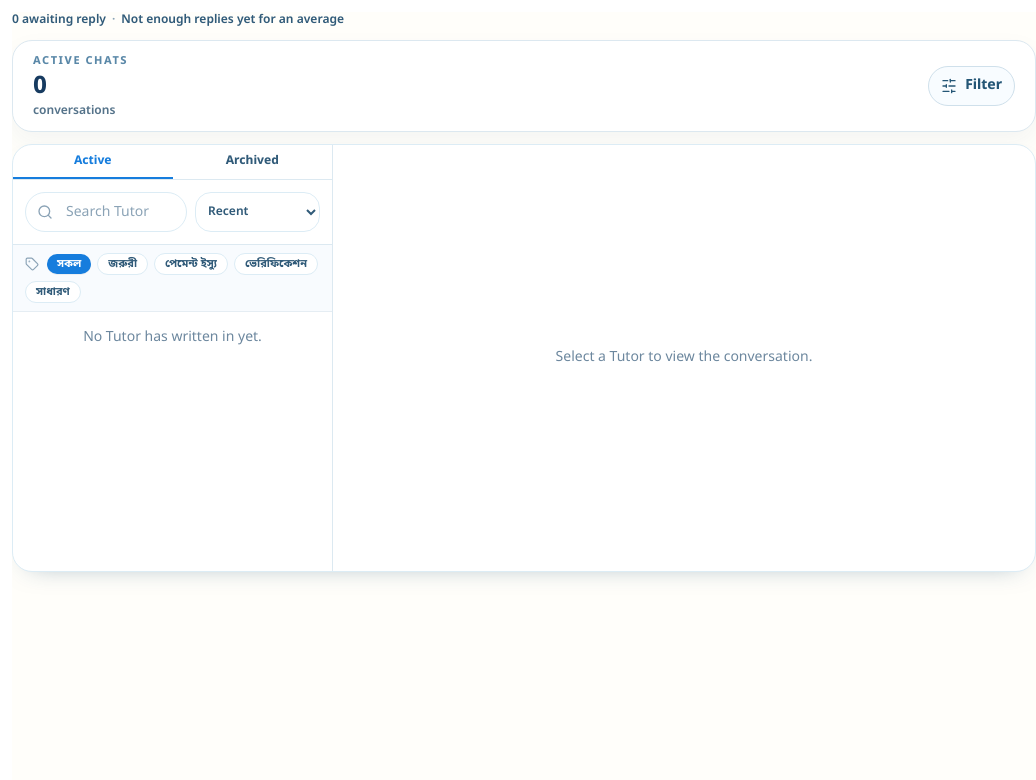
Test case: the card and filter panel over the conversations › says nothing matches, rather than that nobody has written in, when a filter empties the list
The image size is (1036, 780).
Check: the text "No Tutor has written in yet." is shown, box [83,328,262,347]
Click the button "Filter" at coordinates (972, 86), box [928,66,1015,106]
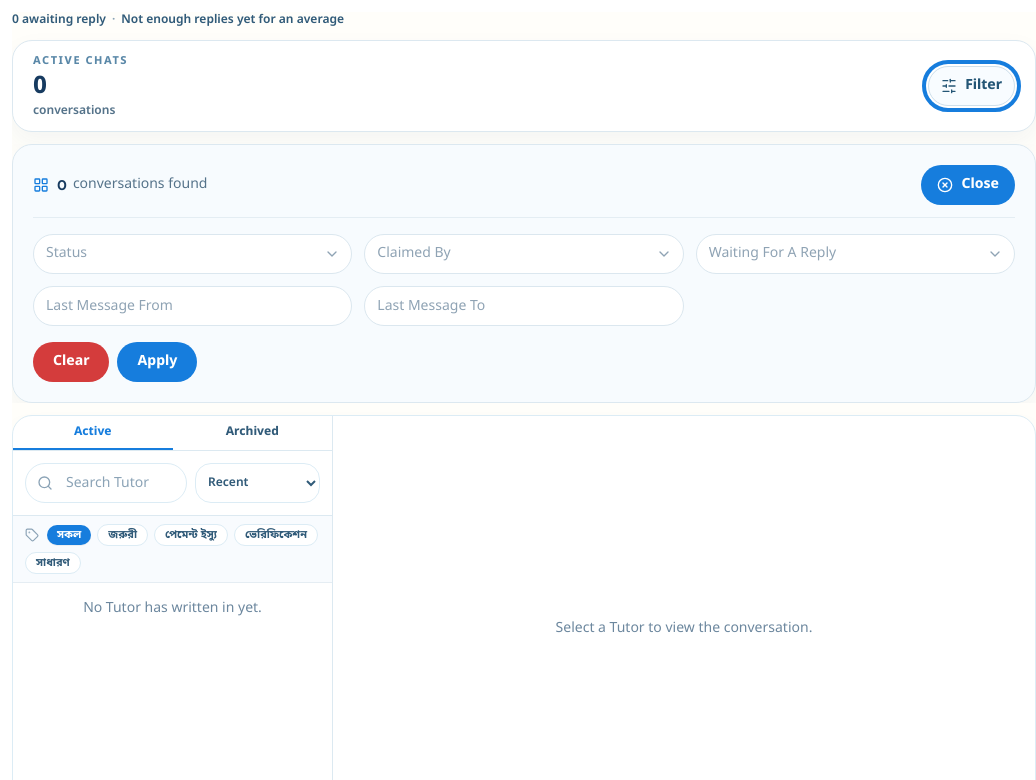
Select "Unread" in the dropdown named "Status" at coordinates (193, 254), box [33,234,352,274]
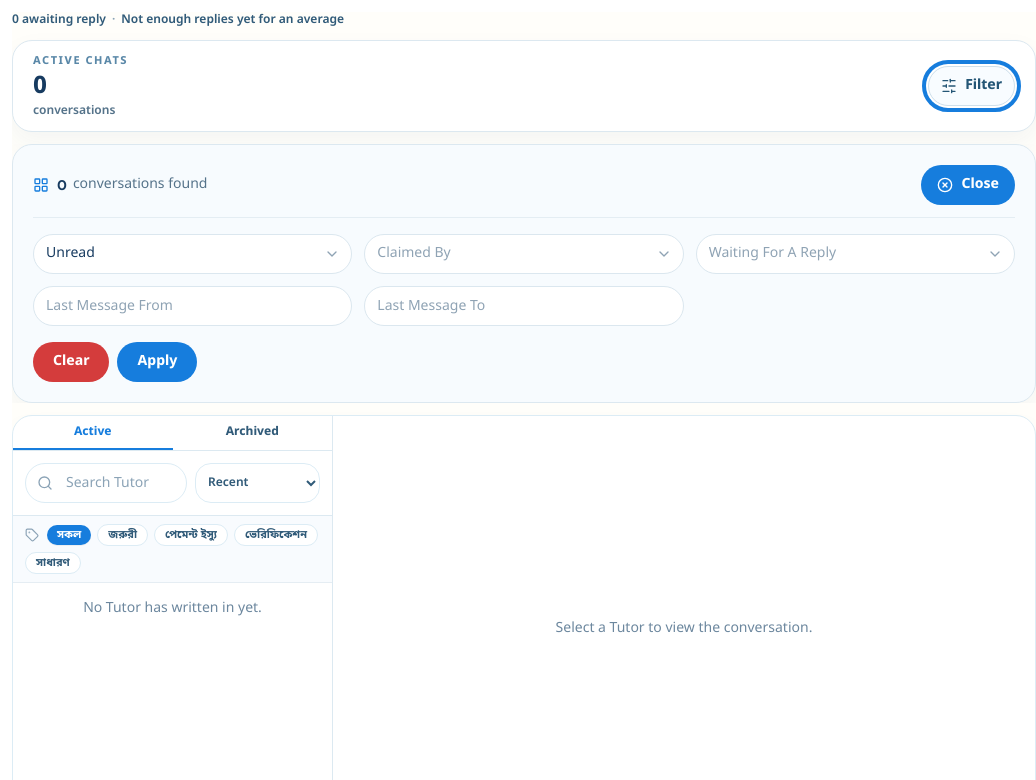
Click the button "Apply" at coordinates (157, 362), box [118,342,197,382]
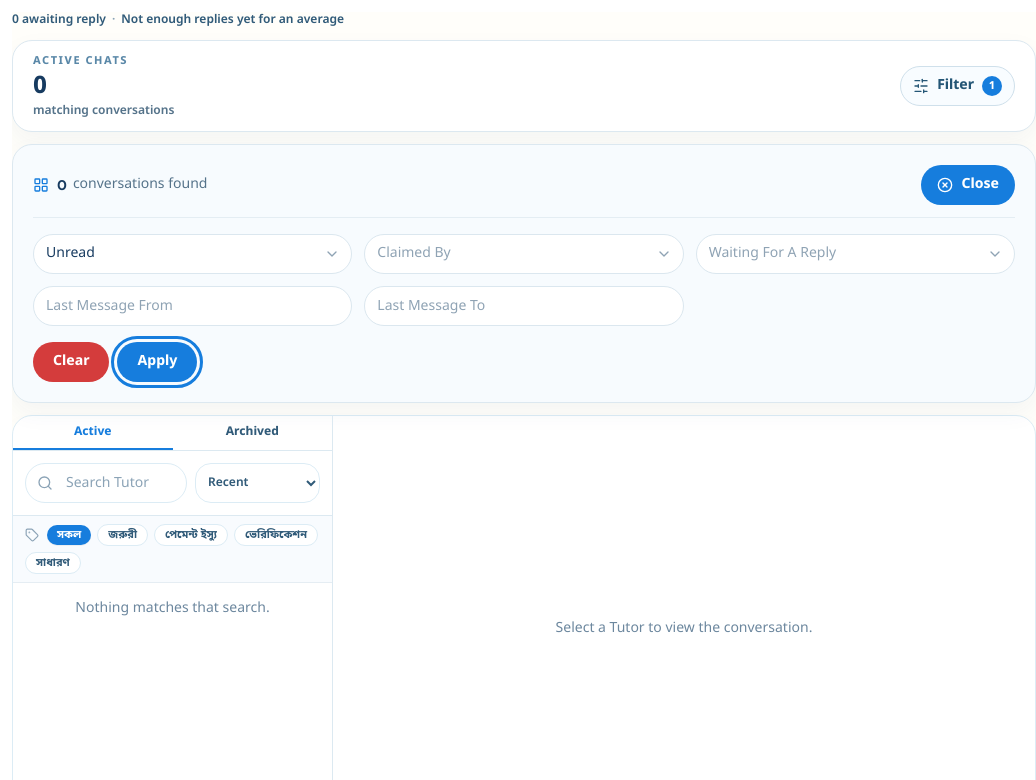
Check: the text "Nothing matches that search." is shown, box [75,599,270,618]
